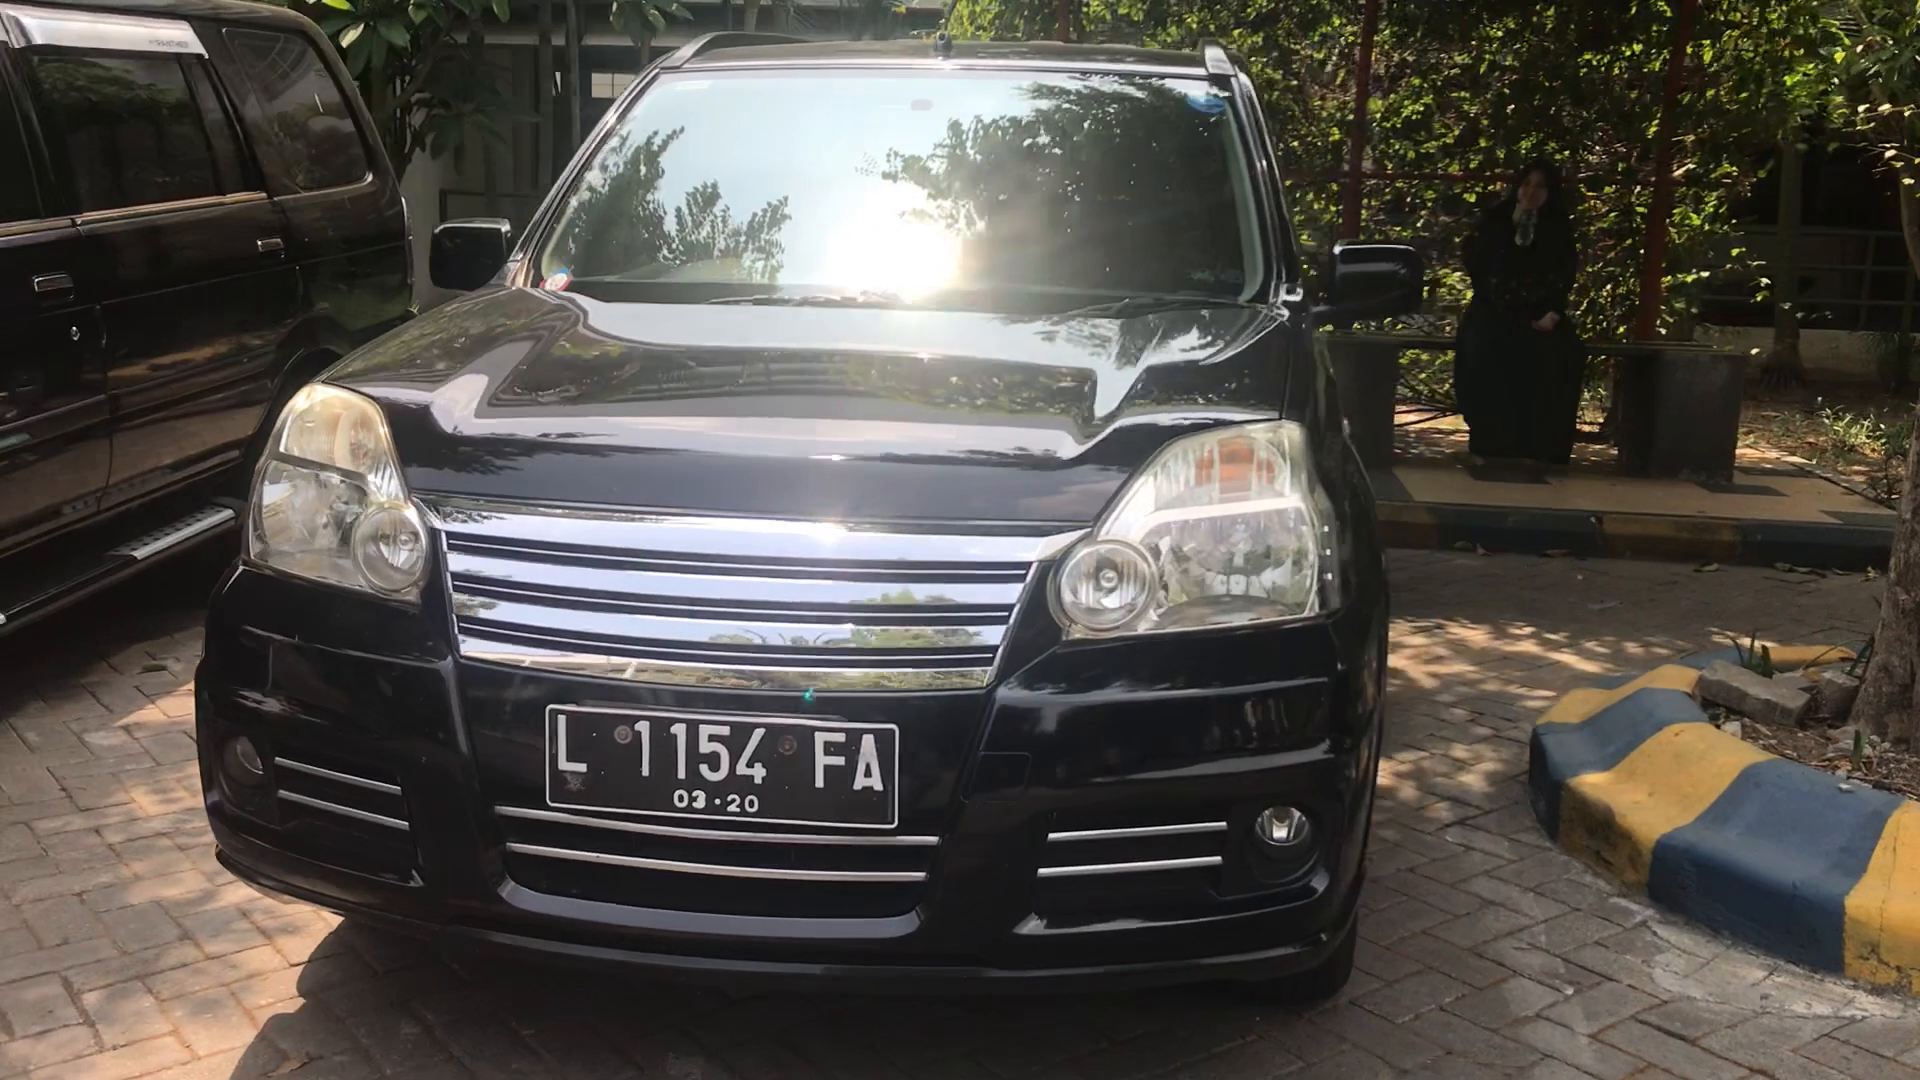plate: (545, 707, 902, 820)
